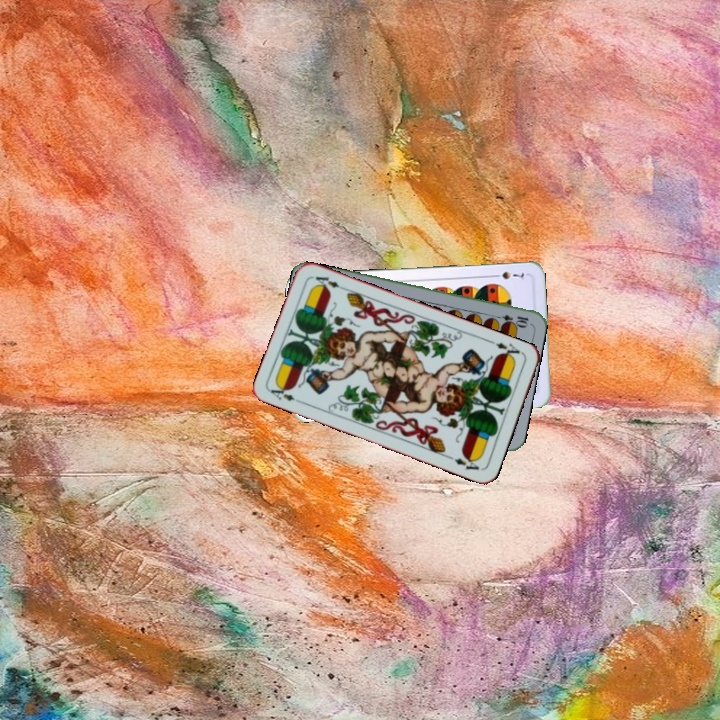E10: (490, 310, 531, 328)
EA: (486, 337, 526, 362), (266, 381, 306, 406)
S7: (488, 267, 527, 282)
